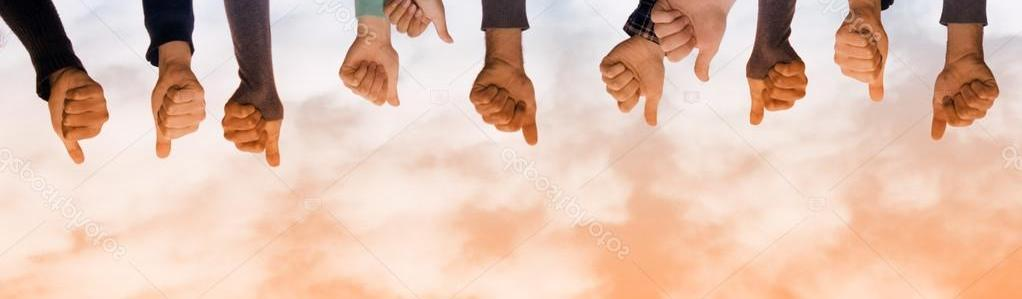thumbsdown: (651, 7, 710, 83), (469, 83, 538, 146), (931, 80, 1000, 142), (57, 86, 110, 165), (153, 84, 207, 160), (599, 60, 659, 127), (833, 27, 884, 104), (749, 62, 808, 127), (220, 104, 280, 167), (382, 0, 454, 45), (339, 59, 400, 107)
